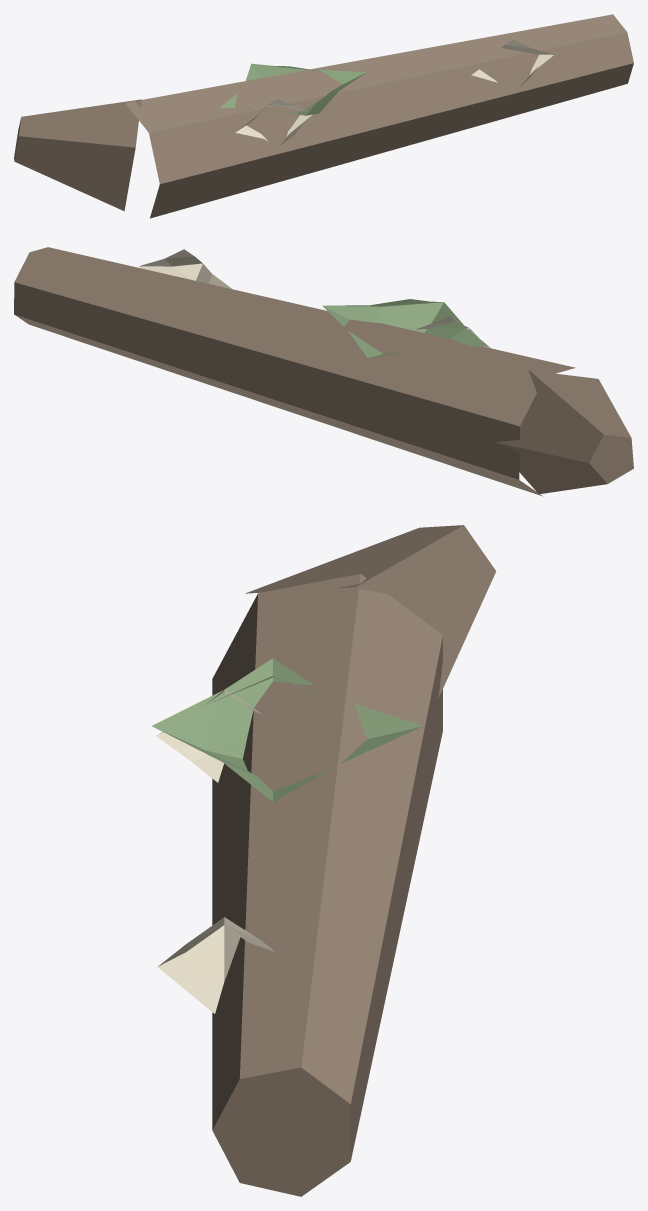
File: log_v48.glb
3 renders of one model, top to bottom at view 1: azimuth 30°, elevation 25°; view 2: azimuth 150°, elevation 25°; view 3: azimuth 270°, elevation 25°, orthographic. The views are drawn at different scales.
Visible parts, largest first — view 1: lod0; view 2: lod0; view 3: lod0.
Part boxes in pixels (box(x1,y1,x2,y2)): lod0: box(14, 14, 633, 218); lod0: box(14, 247, 633, 496); lod0: box(152, 525, 496, 1196).
Size of what is drawn, in the model's own units: 2.17 by 0.4561 by 0.5677.
